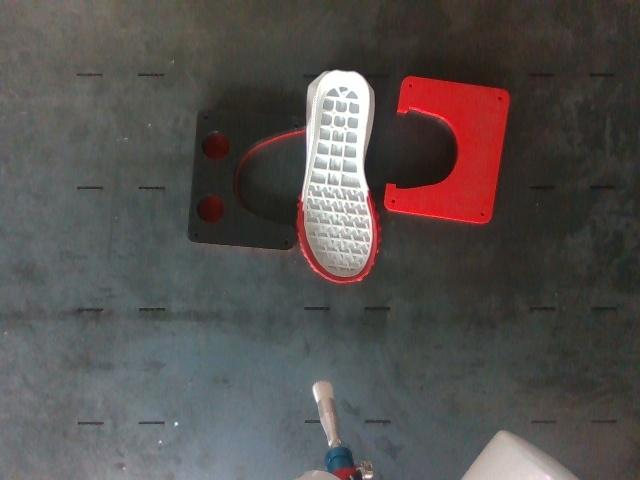shoes: (299, 71, 377, 281)
